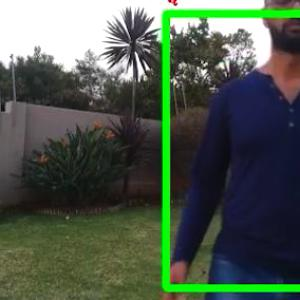follow: (192, 0, 299, 299)
